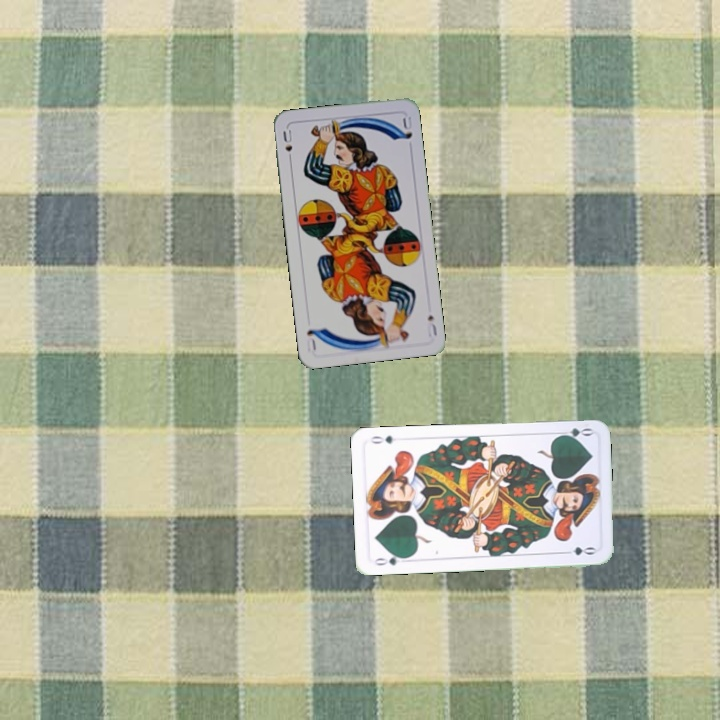GO: (370, 550, 410, 568), (554, 424, 594, 442)
SU: (279, 126, 295, 165), (423, 311, 440, 339)
